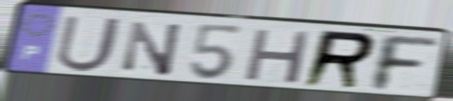5: (186, 22, 245, 83)
F: (370, 32, 441, 94)
H: (242, 26, 314, 86)
N: (120, 19, 185, 79)
R: (299, 28, 379, 91)
U: (53, 14, 126, 74)
